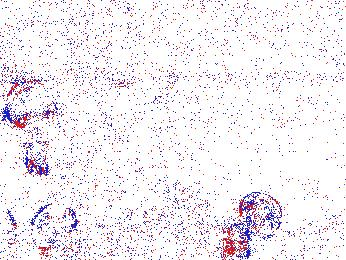flame jellyfish: (4, 80, 59, 176), (224, 191, 283, 248), (29, 201, 83, 257)
